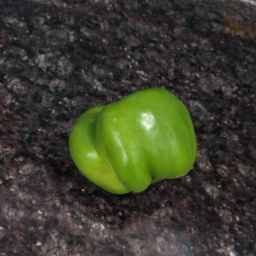Bell pepper: (41, 75, 205, 205)
